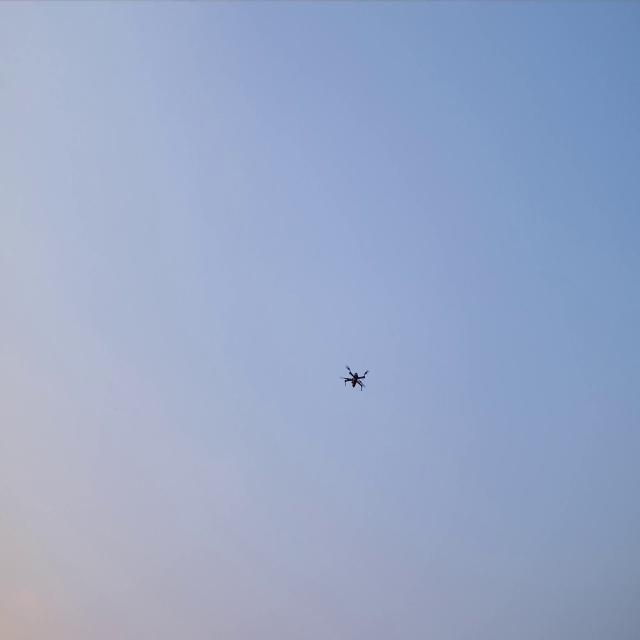UAV: (339, 363, 370, 391)
